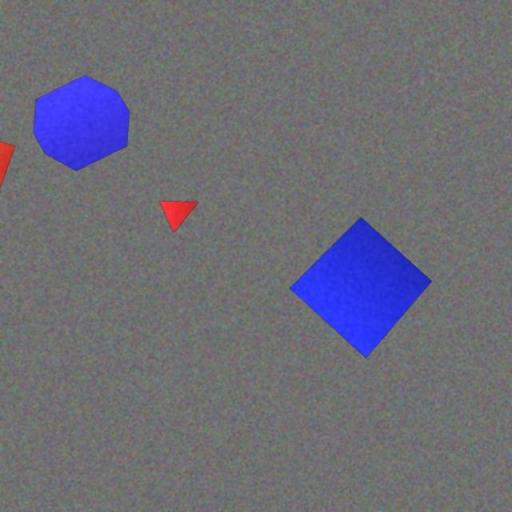BLUE_SQUARE: (289, 216, 433, 359)
